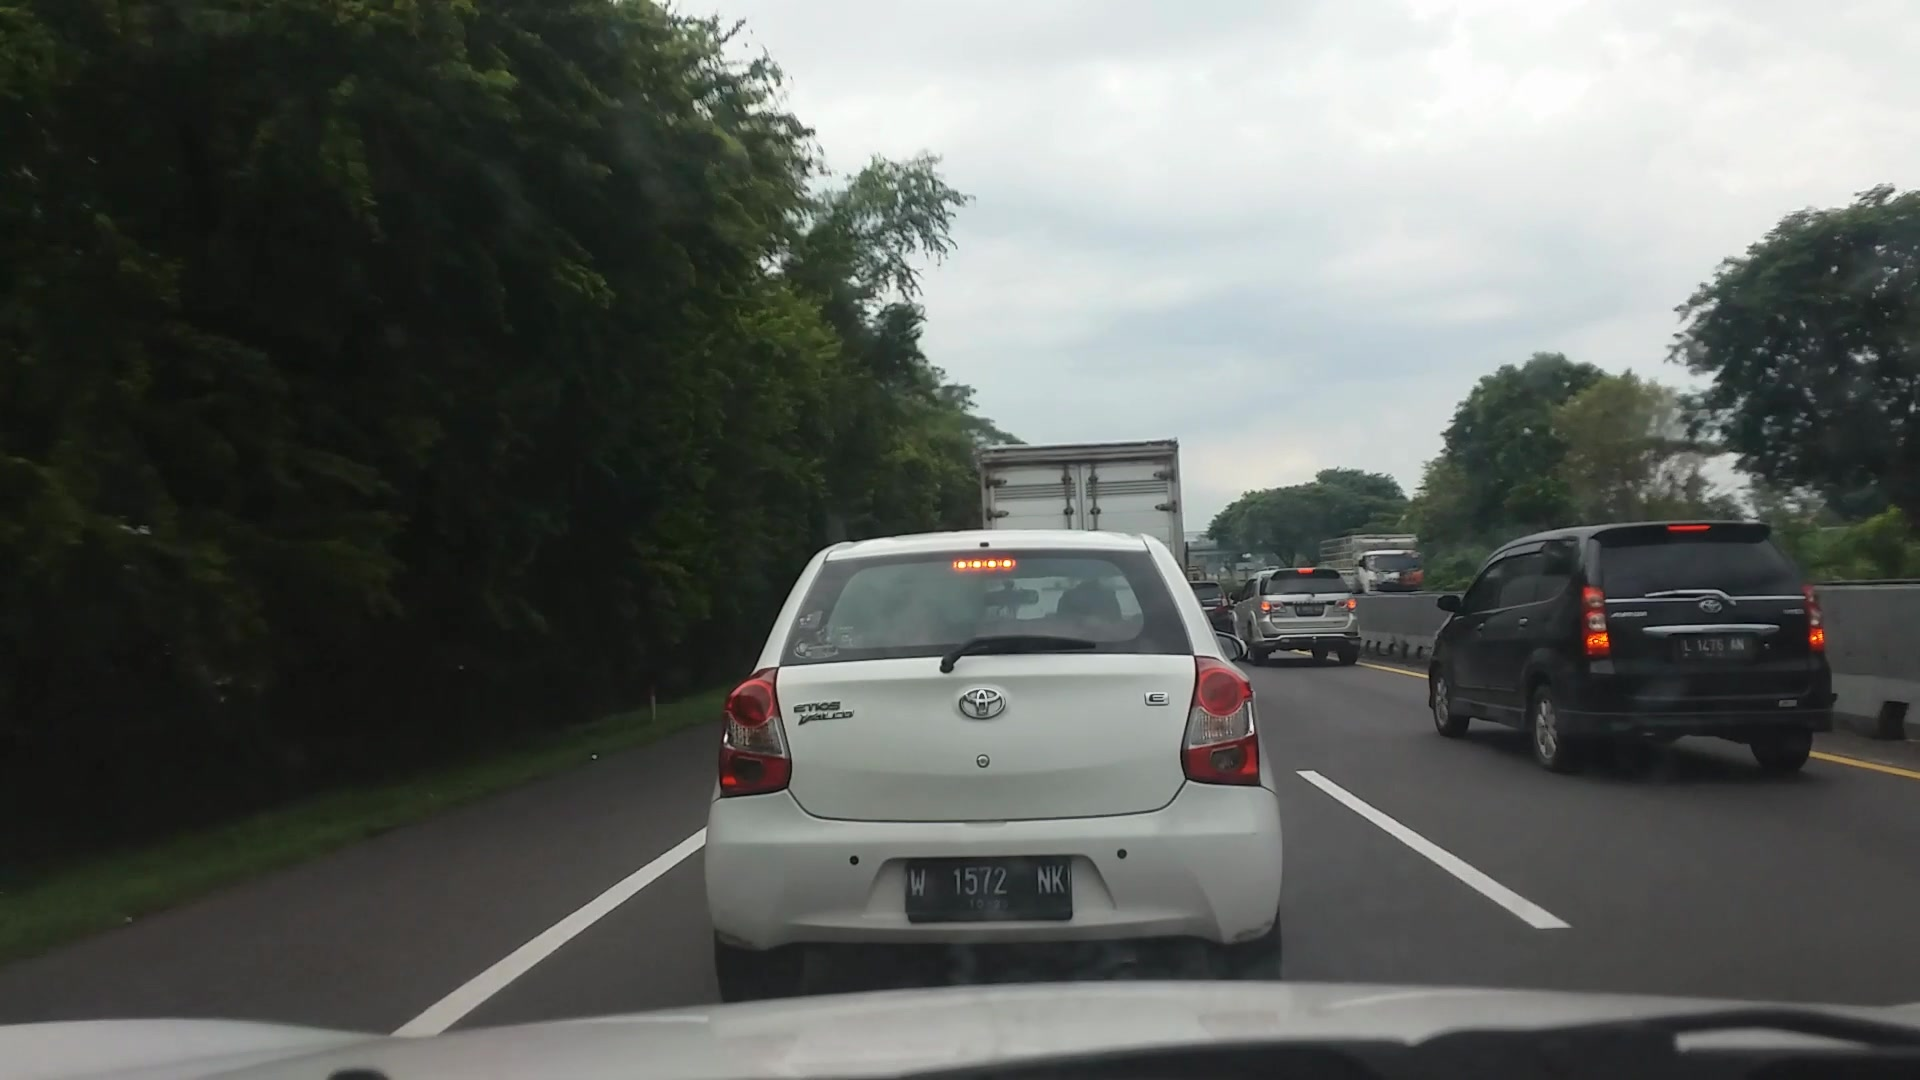plate_positive: (905, 856, 1072, 922)
